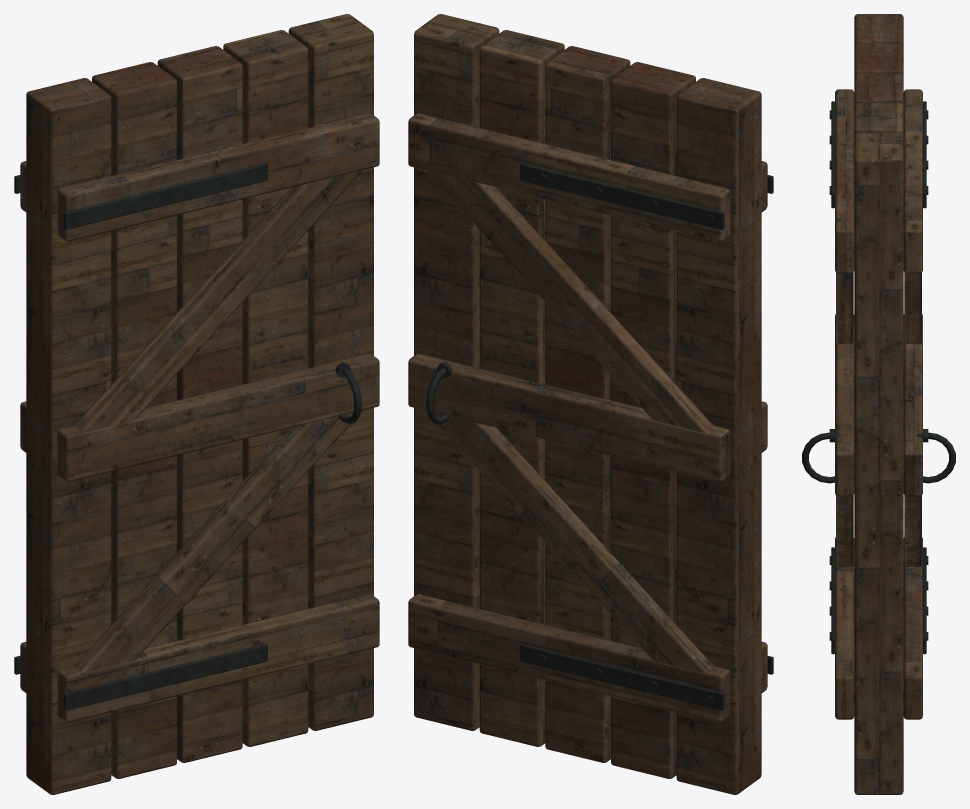
Rendered from door_wood.glb.
3 views of the same model, side by side, from view 1: azimuth 30°, elevation 25°; view 2: azimuth 150°, elevation 25°; view 3: azimuth 270°, elevation 25° (orthographic). The views are drawn at different scales.
Visible parts, largest first — view 1: prop; view 2: prop; view 3: prop.
Boxes of the visible parts, <box> form: prop: <box>14,14,379,794</box>; prop: <box>408,14,773,794</box>; prop: <box>802,14,955,794</box>.
Bounding box in the file's own units: 0.988 × 2 × 0.4376.
2 materials, 2 textured.
